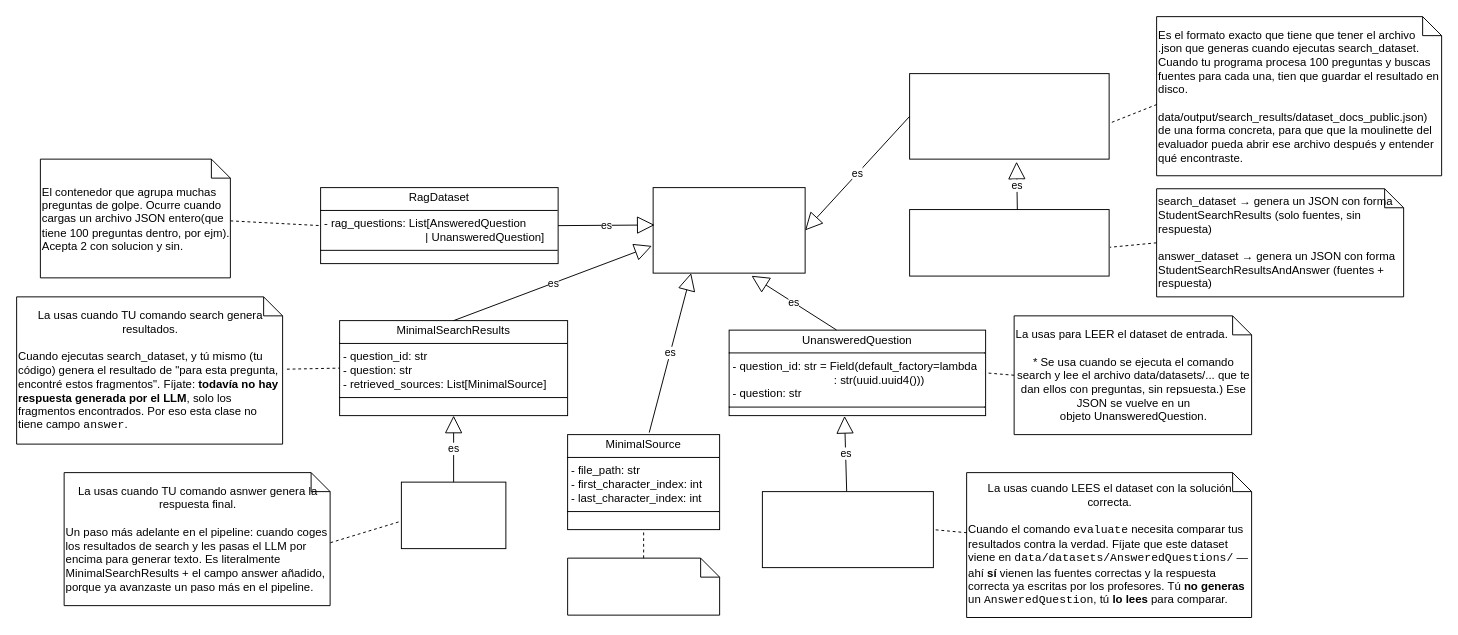
The diagram is 1458 pixels wide and 635 high, and some of its shapes have lost their labels. Here are the shapes that lost their labels. From the top down, the centre of each, then its label:
At (1009,116): "StudentSearchResults - search_results: List[ MinimalSearchResults] - k: int".
At (728,230): "BaseModel + field: Type + method(): Type".
At (1009,242): "StudentSearchResultsAndAnswer - search_results: List[MinimalAnswer]".
At (453,515): "MinimalAnswer - answer: str".
At (847,529): "AnsweredQuestion - sources: List[MinimalSource] - answer: str".
At (643,586): "La pieza más pequeña, se usa en TODOS los pasos a partir de search".
